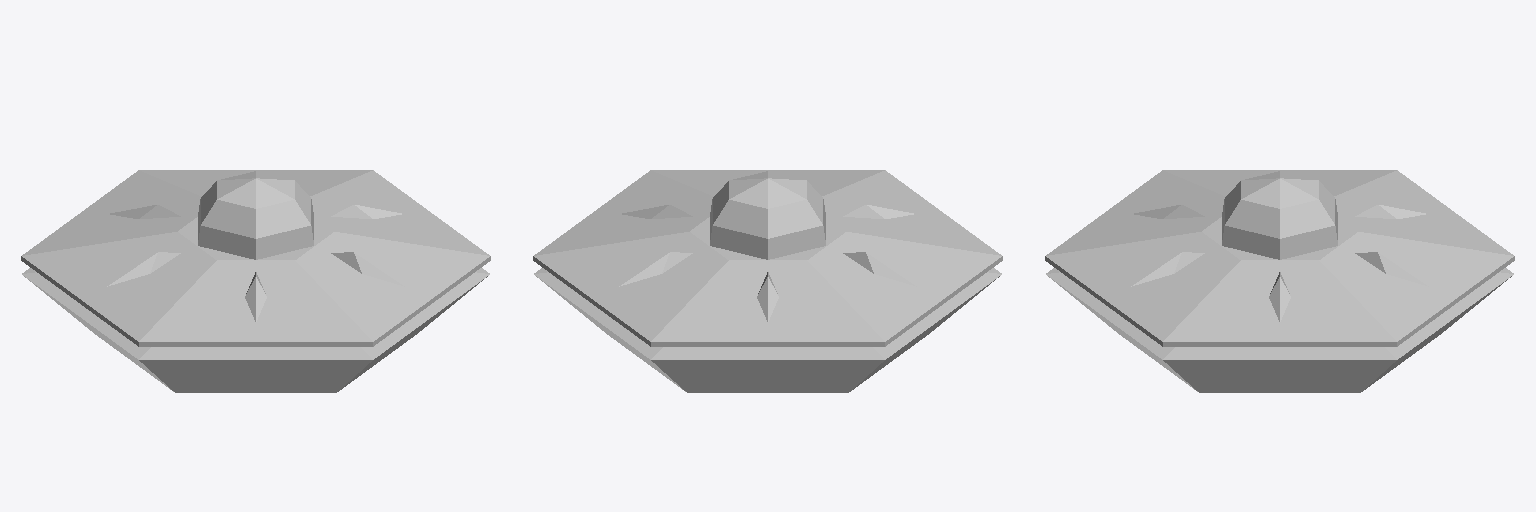
Rendered from ufo.obj.
The picture shows the model from 3 angles: view 1: azimuth 30°, elevation 25°; view 2: azimuth 150°, elevation 25°; view 3: azimuth 270°, elevation 25°; orthographic projection.
Visible parts, largest first — view 1: Body_Plane, Glass_Plane.001, Shards_Cone; view 2: Body_Plane, Glass_Plane.001, Shards_Cone; view 3: Body_Plane, Glass_Plane.001, Shards_Cone.
Part boxes in pixels (left/top/right/bottom): Body_Plane: left=21, top=170, right=490, bottom=392; Glass_Plane.001: left=198, top=171, right=313, bottom=259; Shards_Cone: left=107, top=205, right=404, bottom=321; Body_Plane: left=533, top=170, right=1002, bottom=392; Glass_Plane.001: left=710, top=171, right=825, bottom=259; Shards_Cone: left=619, top=205, right=916, bottom=321; Body_Plane: left=1045, top=170, right=1514, bottom=392; Glass_Plane.001: left=1222, top=171, right=1337, bottom=259; Shards_Cone: left=1131, top=205, right=1428, bottom=321.
Bounding box in the file's own units: 2.04 × 0.8621 × 2.36.